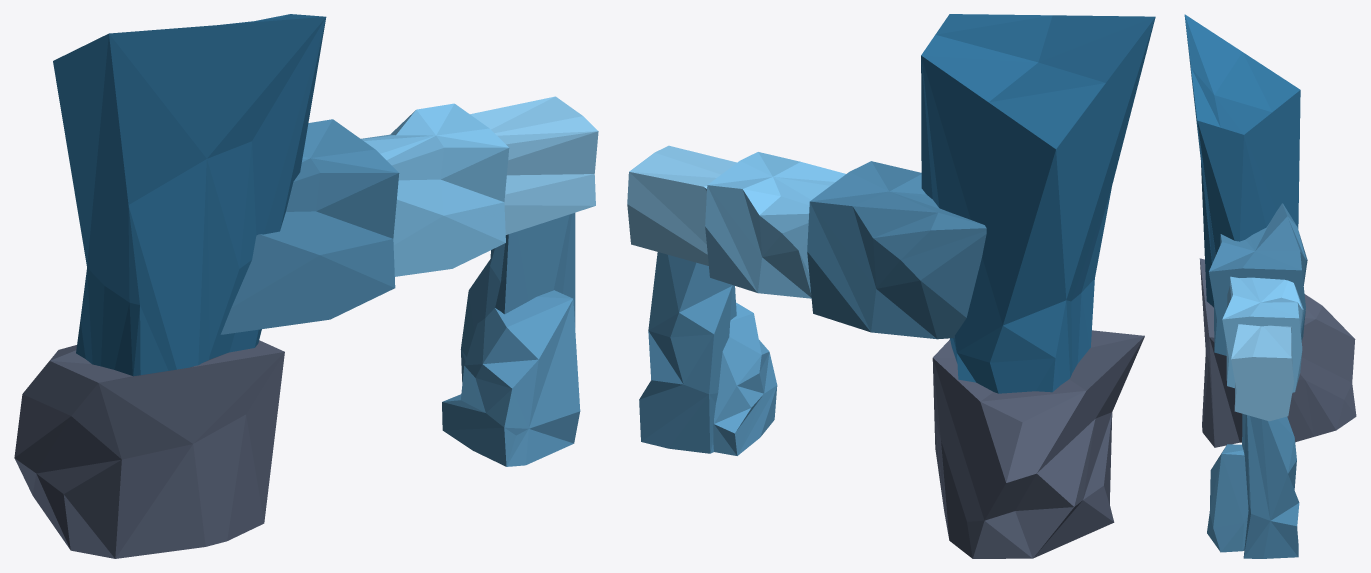
Rendered from SP_Rock08.fbx.
3 renders of one model, left to right at view 1: azimuth 30°, elevation 25°; view 2: azimuth 150°, elevation 25°; view 3: azimuth 270°, elevation 25°, orthographic. The views are drawn at different scales.
Parts seen in each view (by area): view 1: SP_Rock08; view 2: SP_Rock08; view 3: SP_Rock08.
Boxes of the visible parts, bbox=[...] form: SP_Rock08: bbox=[14, 14, 598, 558]; SP_Rock08: bbox=[627, 14, 1155, 558]; SP_Rock08: bbox=[1184, 14, 1356, 558].
Bounding box in the file's own units: 413 × 413 × 172.
Materials: 1 (1 with a texture image).
